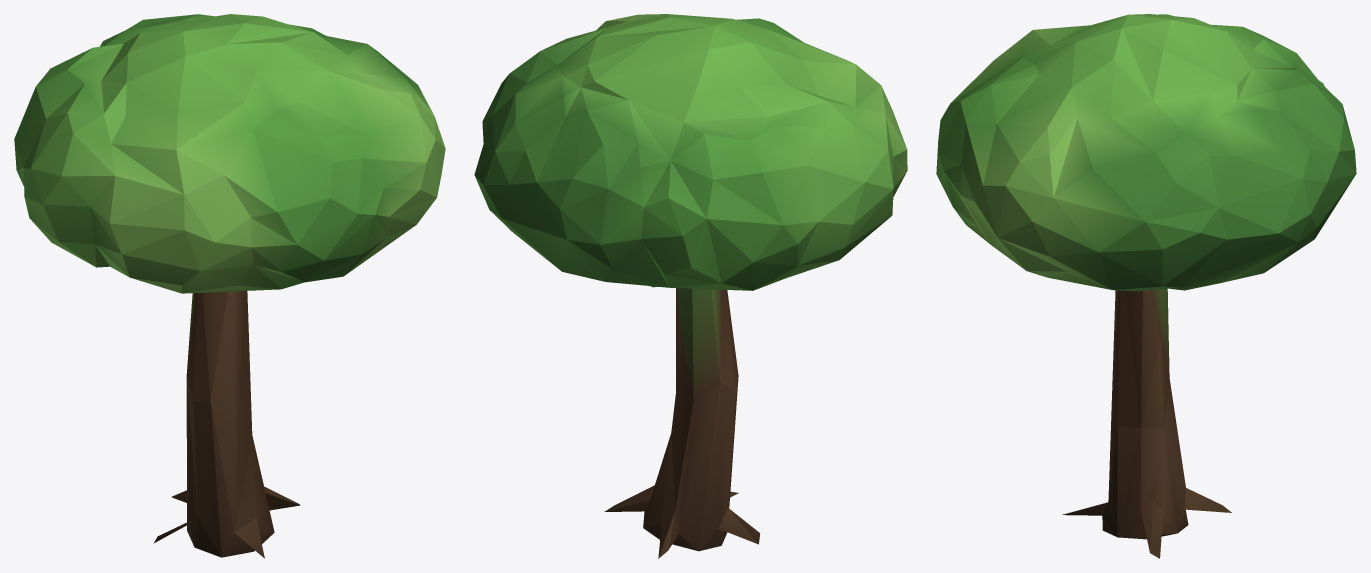
File: broadleaf_mature_dense_far.glb
3 views of the same model, side by side, from view 1: azimuth 30°, elevation 25°; view 2: azimuth 150°, elevation 25°; view 3: azimuth 270°, elevation 25° (orthographic). The views are drawn at different scales.
Parts seen in each view (by area): view 1: broadleaf_mature_dense_LOD3; view 2: broadleaf_mature_dense_LOD3; view 3: broadleaf_mature_dense_LOD3.
Boxes of the visible parts, x1,y1,x2,y2 form: broadleaf_mature_dense_LOD3: [14, 14, 445, 558]; broadleaf_mature_dense_LOD3: [474, 14, 907, 558]; broadleaf_mature_dense_LOD3: [936, 14, 1356, 558].
Bounding box in the file's own units: 3.91 × 4.92 × 3.76.
